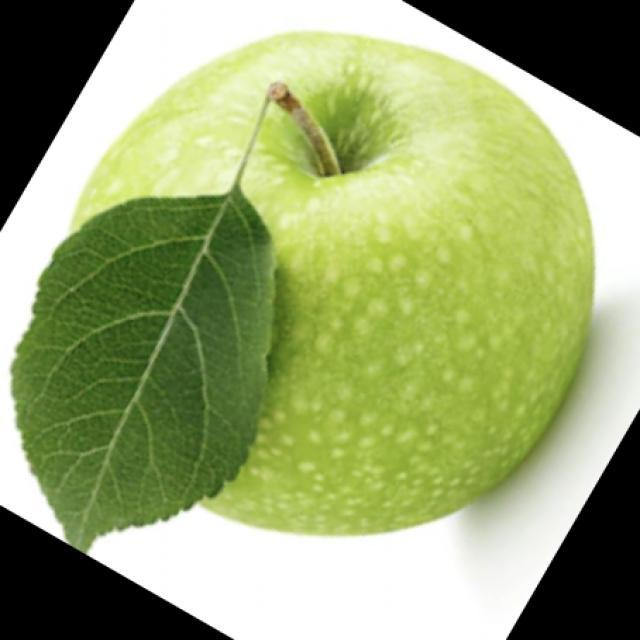Fresh Apple: (111, 43, 572, 502)
